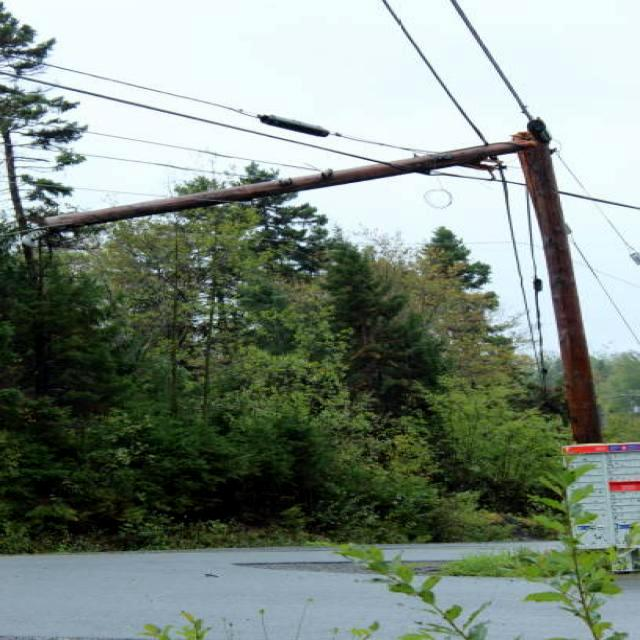Broken Pole: (23, 113, 613, 444)
